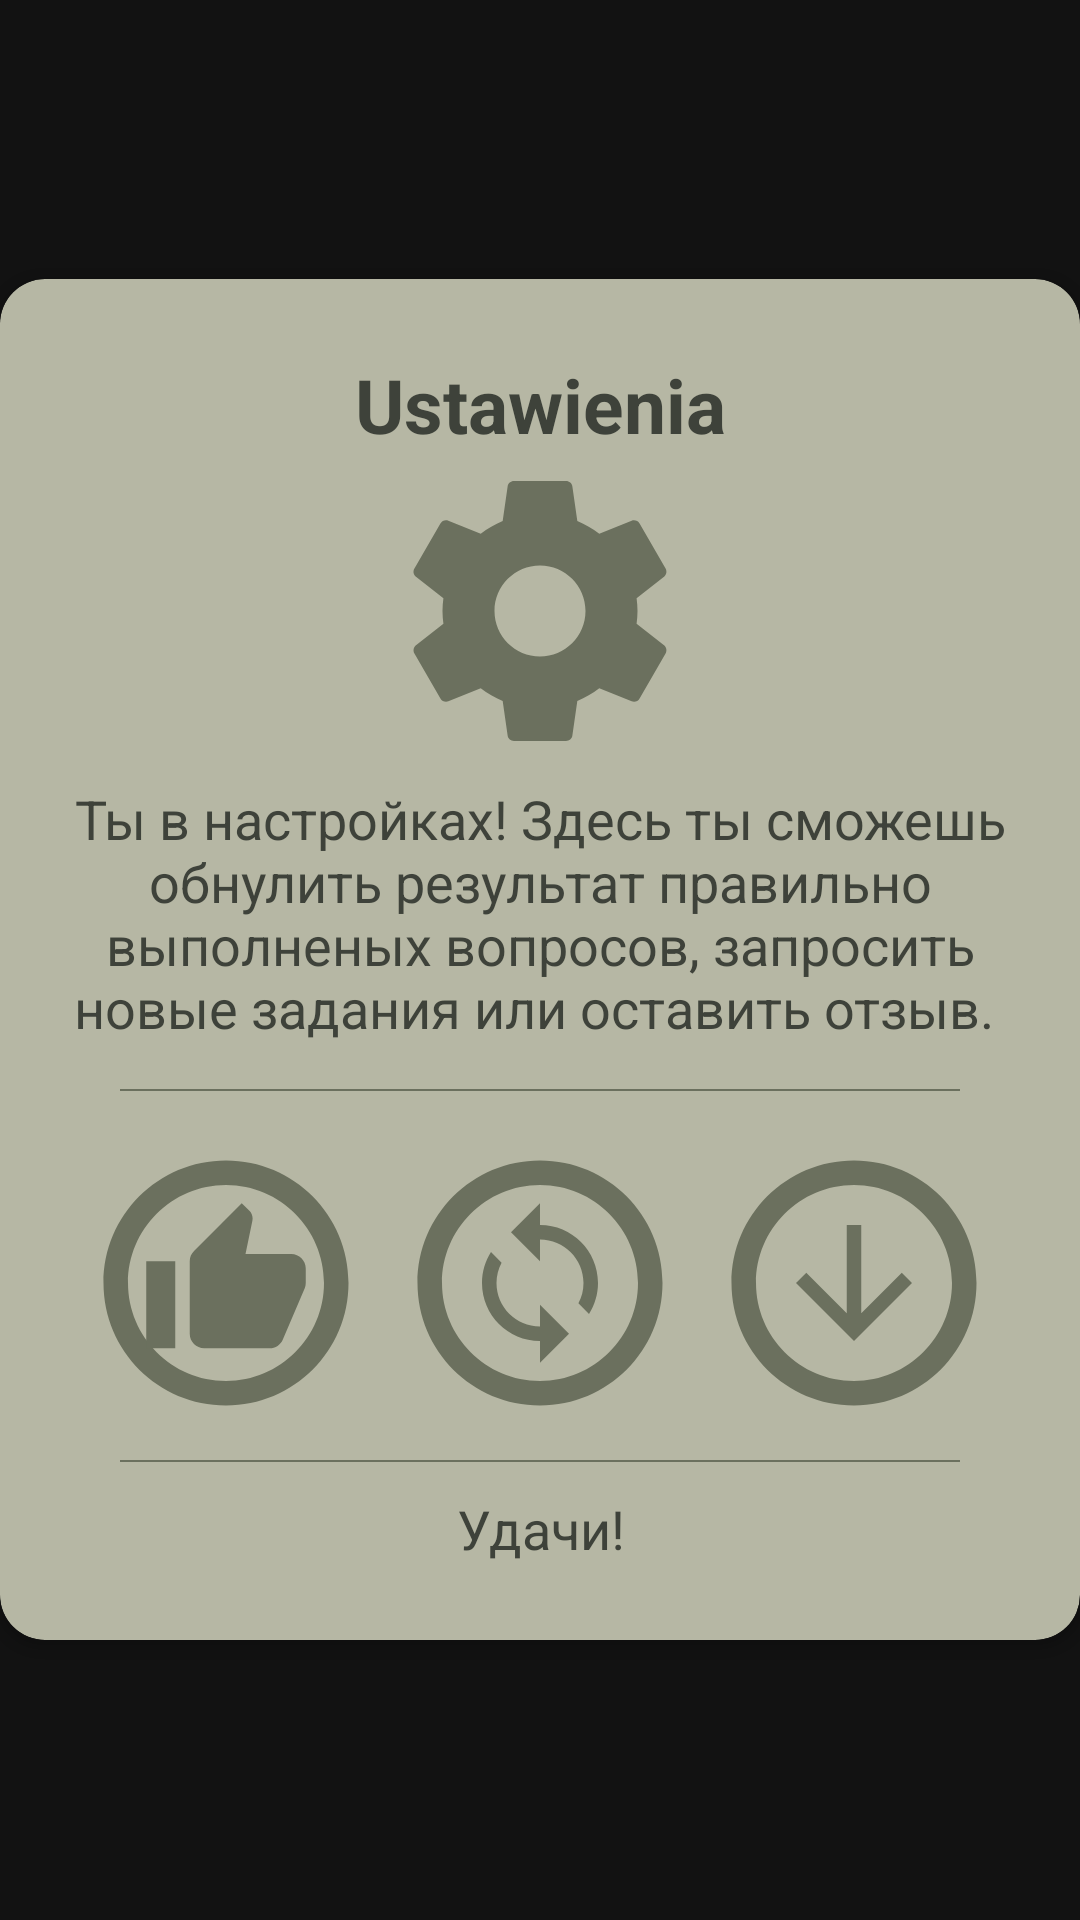

Screen size 1080x1920. Icon name, then its box in pixels as [x1=x1, y1=y1, x2=x2, y2=y2]:
get data: [x1=731, y1=1160, x2=977, y2=1406]
restart: [x1=417, y1=1160, x2=663, y2=1406]
review: [x1=103, y1=1160, x2=349, y2=1406]
